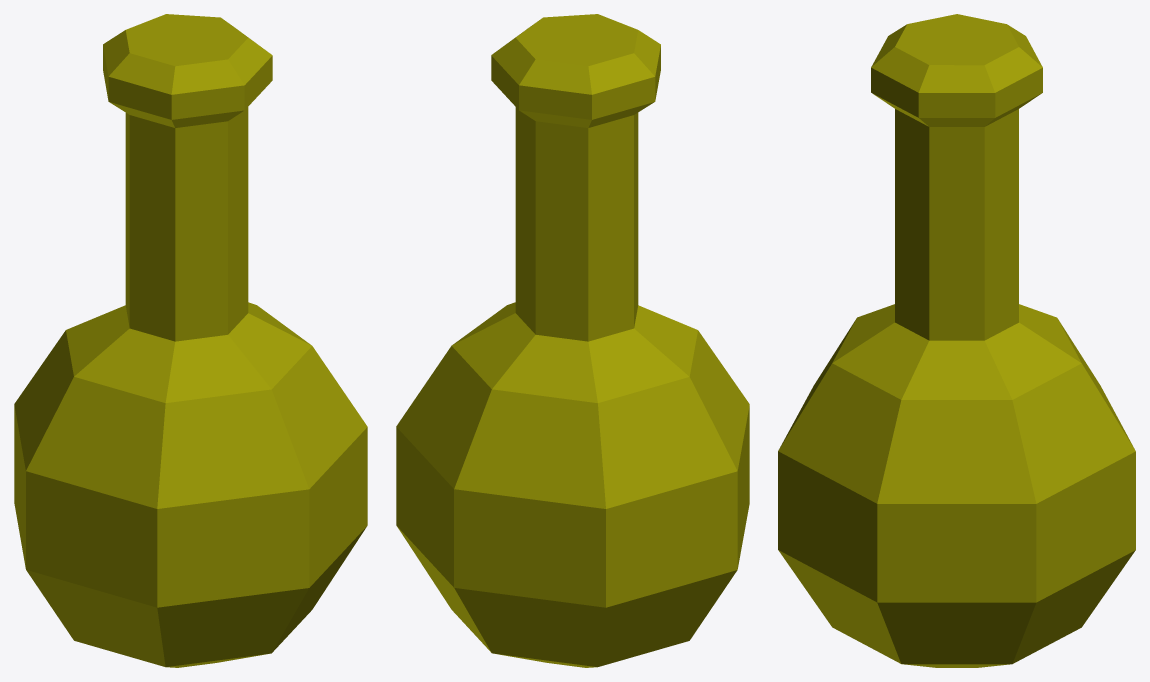
The model's file is Bottle 3.fbx.
3 renders of one model, left to right at view 1: azimuth 30°, elevation 25°; view 2: azimuth 150°, elevation 25°; view 3: azimuth 270°, elevation 25°, orthographic.
Parts seen in each view (by area): view 1: Cylinder007; view 2: Cylinder007; view 3: Cylinder007.
Part boxes in pixels (x1,y1,x2,y2): Cylinder007: (14,14,367,667); Cylinder007: (396,14,749,667); Cylinder007: (778,14,1135,667).
Size of the model in its own units: 8.06 by 15.53 by 8.26.
